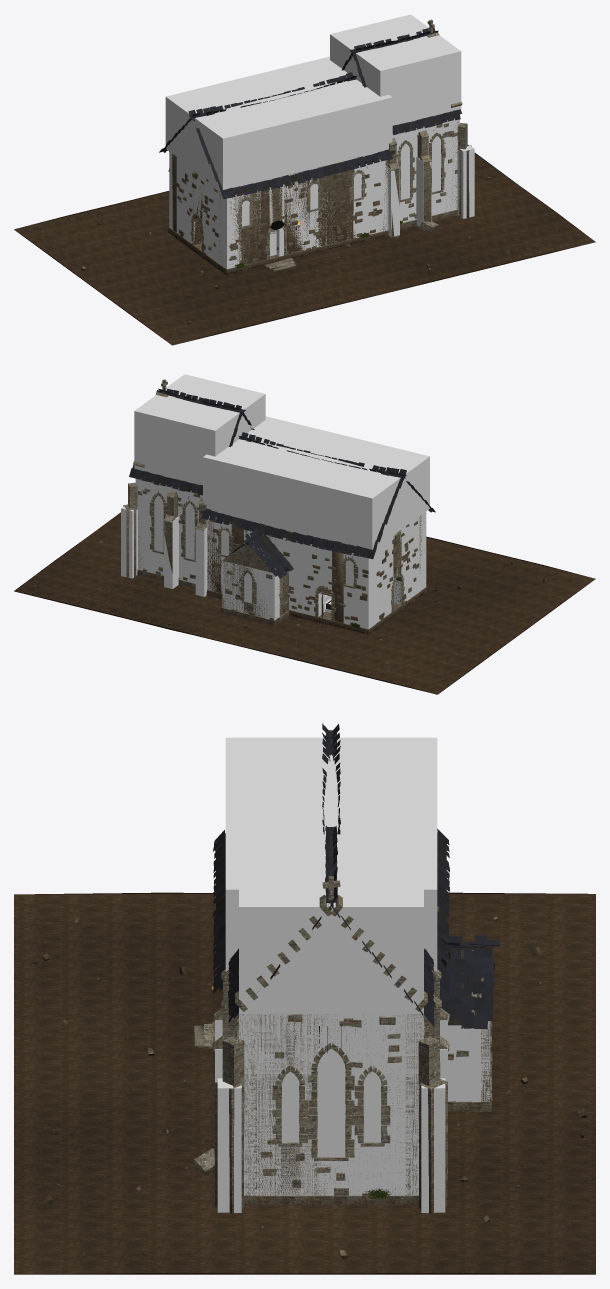
File: bld_chapel_st_noll_shared_tex.glb
3 renders of one model, top to bottom at view 1: azimuth 30°, elevation 25°; view 2: azimuth 150°, elevation 25°; view 3: azimuth 270°, elevation 25°, orthographic. The views are drawn at different scales.
Parts seen in each view (by area): view 1: ground_mud, col_roof_nave, col_roof_chancel, lite_merge_03, col_nave_S_b, lite_merge_00, col_chancel_S, roof_nave_shingles, col_nave_S_a, lite_merge_10, lite_merge_06, col_nave_W_b (+5 smaller); view 2: ground_mud, col_roof_nave, col_roof_chancel, lite_merge_01, col_chancel_N, lite_merge_04, roof_nave_shingles, col_side_N, col_nave_N_b, col_nave_N_a, lite_merge_00, lite_merge_03 (+11 smaller); view 3: ground_mud, col_roof_chancel, col_roof_nave, lite_merge_00, col_chancel_E, roof_nave_shingles, lite_merge_11, lite_merge_01, col_buttress_SE, col_chancel_N, col_chancel_S, col_buttress_NE (+5 smaller).
Boxes of the visible parts, box(x1,y1,x2,y2) form: ground_mud: box(14, 153, 595, 345); col_roof_nave: box(165, 56, 392, 189); col_roof_chancel: box(330, 14, 461, 125); lite_merge_03: box(175, 157, 388, 275); col_nave_S_b: box(276, 156, 388, 256); lite_merge_00: box(388, 19, 471, 237); col_chancel_S: box(392, 118, 459, 222); roof_nave_shingles: box(159, 72, 395, 199); col_nave_S_a: box(219, 189, 260, 269); lite_merge_10: box(341, 27, 461, 135); lite_merge_06: box(190, 170, 366, 259); col_nave_W_b: box(176, 157, 201, 243); ground_mud: box(14, 512, 595, 694); col_roof_nave: box(203, 416, 429, 549); col_roof_chancel: box(134, 374, 265, 484); lite_merge_01: box(137, 488, 280, 625); col_chancel_N: box(135, 478, 202, 583); lite_merge_04: box(206, 517, 376, 634); roof_nave_shingles: box(201, 432, 435, 559); col_side_N: box(222, 560, 279, 620); col_nave_N_b: box(269, 526, 325, 616); col_nave_N_a: box(343, 551, 375, 629); lite_merge_00: box(123, 379, 206, 577); lite_merge_03: box(376, 515, 427, 629); ground_mud: box(14, 892, 595, 1274); col_roof_chancel: box(239, 834, 423, 1014); col_roof_nave: box(225, 737, 437, 971); lite_merge_00: box(194, 876, 449, 1213); col_chancel_E: box(257, 1014, 405, 1195); roof_nave_shingles: box(212, 723, 450, 994); lite_merge_11: box(440, 934, 499, 1029); lite_merge_01: box(403, 950, 492, 1205); col_buttress_SE: box(217, 1078, 241, 1212); col_chancel_N: box(405, 1014, 423, 1195); col_chancel_S: box(239, 1014, 257, 1195); col_buttress_NE: box(421, 1078, 445, 1212).
Size of the model in its own units: 34 by 14.73 by 22.
14 materials, 12 textured.
